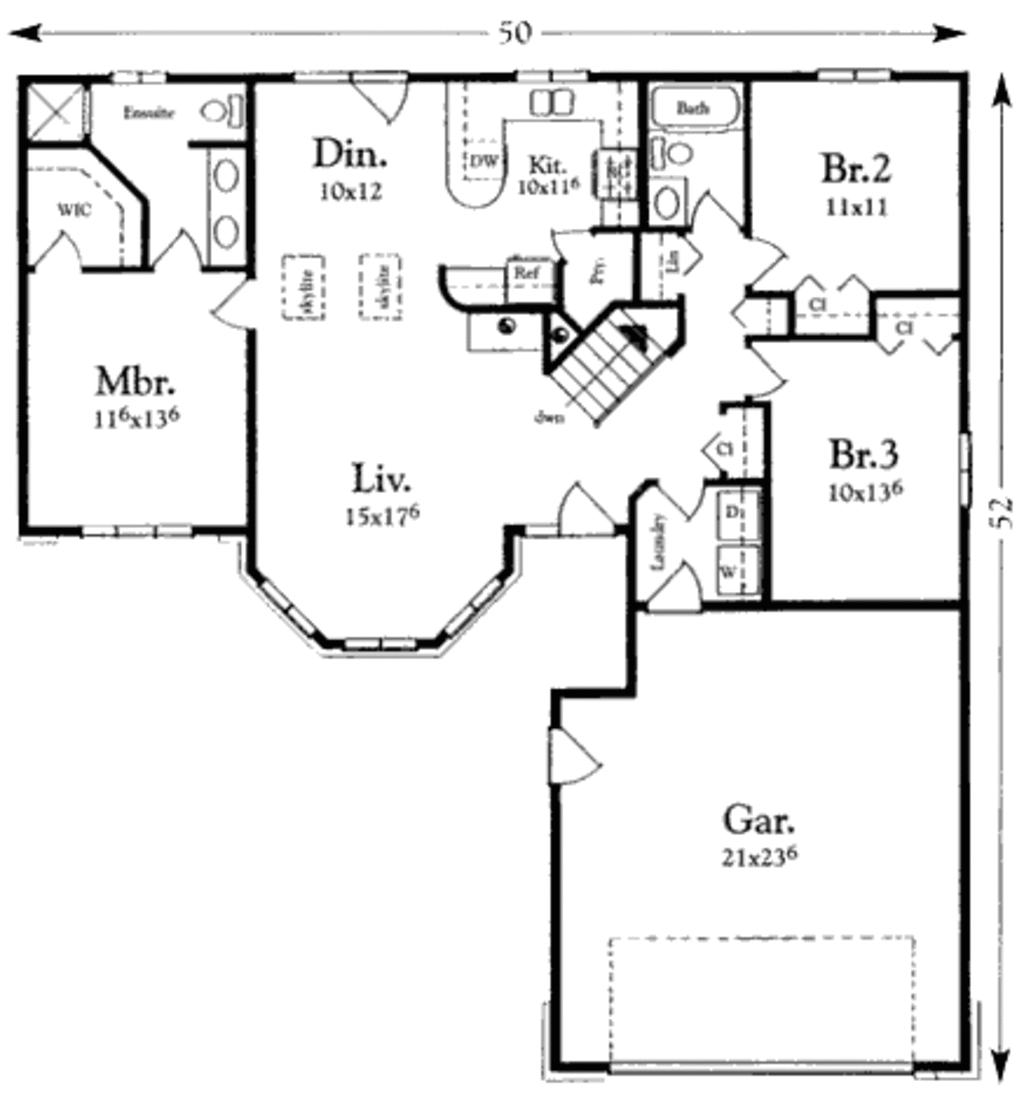door: (343, 67, 417, 127), (544, 724, 613, 787), (197, 264, 257, 328), (640, 559, 709, 612), (139, 220, 204, 274), (560, 471, 612, 534), (648, 470, 706, 521), (742, 337, 790, 398), (738, 229, 786, 287), (28, 226, 82, 273), (545, 219, 598, 266), (691, 188, 745, 233)
large_sink: (194, 85, 250, 139), (635, 135, 711, 173)
small_sink: (198, 147, 251, 274), (646, 176, 684, 221)
stairs: (548, 296, 682, 428)
tub: (640, 76, 739, 133)
twin_sink: (515, 80, 592, 124)
window: (238, 563, 323, 657), (425, 575, 514, 647), (71, 513, 198, 542), (942, 429, 977, 519), (336, 626, 428, 660), (809, 57, 898, 89), (98, 63, 169, 88)
